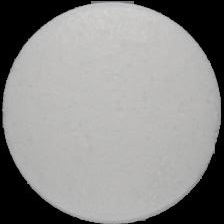76237-195: (0, 0, 224, 224)
